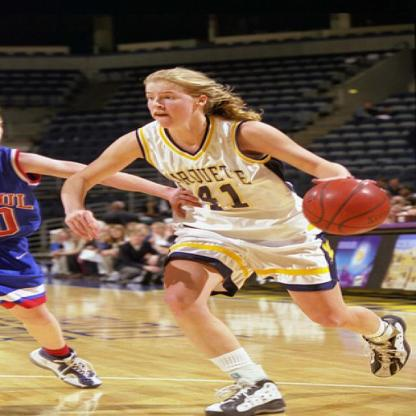basketball: (303, 176, 389, 238)
